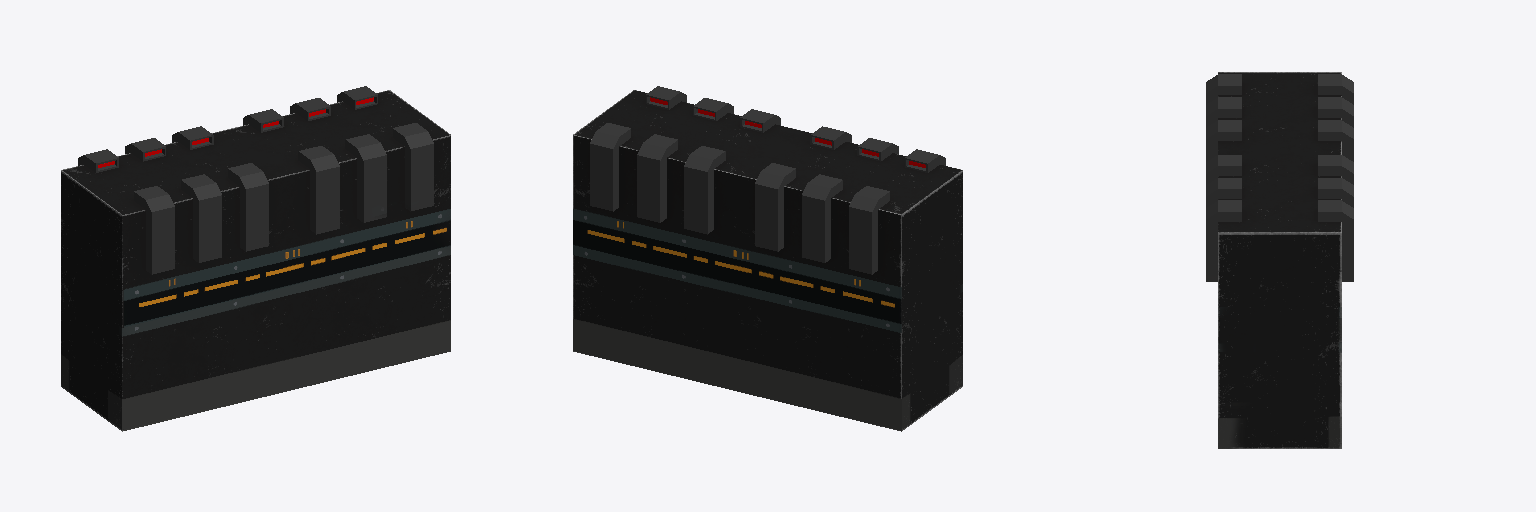
3 renders of one model, left to right at view 1: azimuth 30°, elevation 25°; view 2: azimuth 150°, elevation 25°; view 3: azimuth 270°, elevation 25°, orthographic.
Visible parts, largest first — view 1: kaonov_wall; view 2: kaonov_wall; view 3: kaonov_wall.
Boxes of the visible parts, x1,y1,x2,y2 form: kaonov_wall: [61, 86, 450, 431]; kaonov_wall: [573, 86, 962, 431]; kaonov_wall: [1206, 72, 1353, 448].
Bounding box in the file's own units: 320 × 210 × 124.
1 materials, 1 textured.